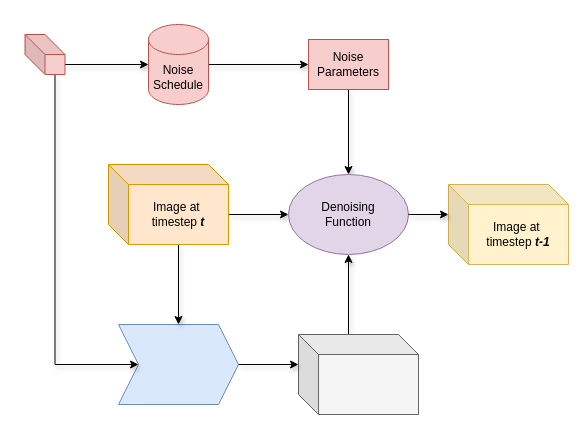
Some shapes in this 586 by 432 pixel diagram are drawn without their labels. Each missing label, with the centre of its shape:
"Predicted Noise" goes at point 358,374.
"Timestep t" goes at point 44,54.
"UNet" goes at point 178,364.
